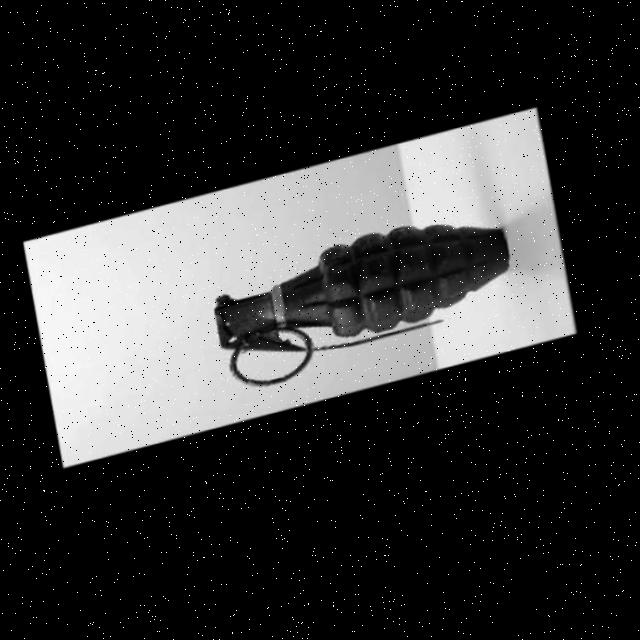grenade: (182, 178, 565, 410)
